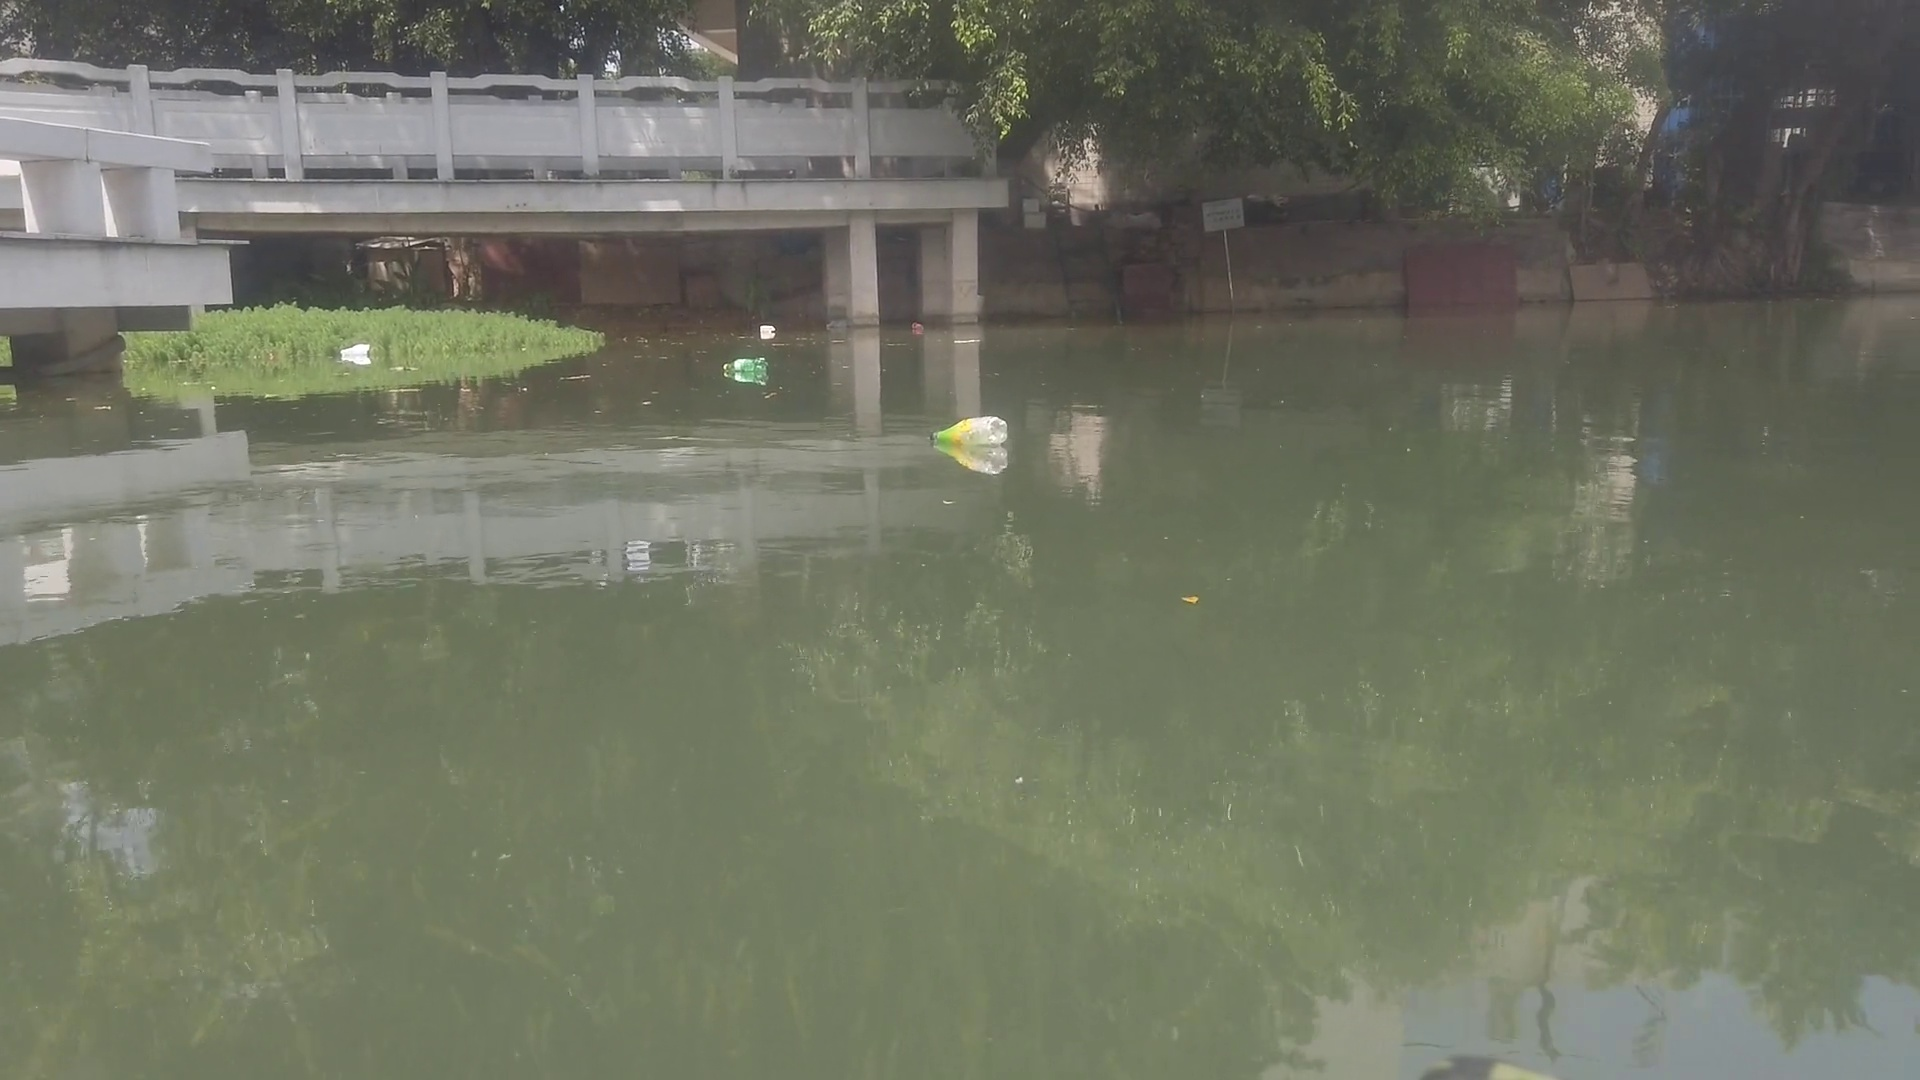bottle: (928, 414, 1017, 448), (720, 353, 764, 373), (905, 316, 927, 332)
carton: (758, 320, 777, 334)
paper: (951, 338, 982, 348)
plastic: (338, 342, 369, 357)
